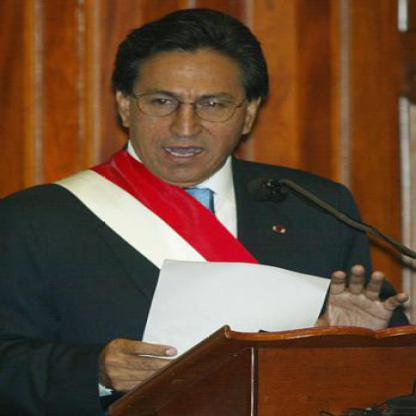face: (128, 30, 247, 186)
